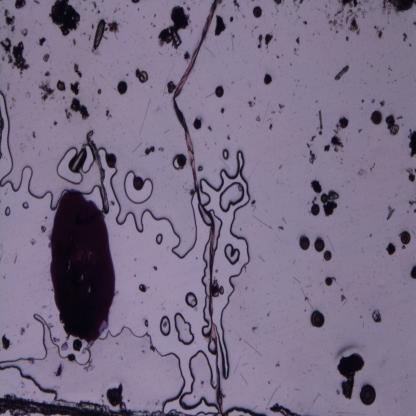Air bubble: (0, 310, 186, 411), (202, 146, 254, 328), (0, 90, 60, 214), (148, 191, 198, 258), (110, 169, 148, 234), (182, 351, 216, 410), (124, 171, 154, 204), (56, 147, 82, 185), (223, 398, 269, 416), (218, 183, 245, 213), (174, 311, 196, 345), (224, 242, 240, 265), (158, 316, 173, 336), (185, 292, 198, 310), (4, 205, 12, 217), (222, 150, 230, 162), (156, 233, 163, 245), (22, 202, 30, 210)
Background material: (153, 6, 193, 50), (335, 350, 365, 397), (327, 0, 362, 36), (306, 108, 326, 166), (0, 39, 33, 73), (51, 0, 81, 36), (322, 117, 349, 154), (380, 0, 416, 17), (323, 188, 342, 219), (68, 98, 90, 122), (91, 18, 106, 50), (2, 8, 17, 34), (270, 402, 297, 416), (370, 18, 386, 40), (385, 115, 400, 136), (254, 33, 272, 50), (212, 278, 226, 299), (395, 23, 409, 42), (215, 14, 226, 38), (41, 83, 54, 102), (310, 177, 323, 196), (107, 19, 121, 36), (333, 67, 349, 81), (371, 307, 383, 325), (69, 80, 80, 99), (409, 130, 416, 159), (404, 166, 416, 182), (0, 334, 12, 349), (54, 362, 65, 378), (252, 107, 262, 124), (165, 80, 178, 93), (386, 242, 397, 257), (386, 206, 396, 221), (74, 62, 82, 80), (145, 145, 156, 157), (217, 104, 228, 115), (38, 35, 48, 47), (138, 282, 148, 294), (274, 222, 284, 234), (60, 339, 69, 352), (21, 27, 29, 41), (278, 101, 286, 115), (19, 324, 28, 336), (15, 1, 27, 10), (57, 81, 66, 92), (233, 0, 241, 12), (104, 110, 113, 120), (410, 266, 416, 280), (141, 318, 150, 327), (247, 99, 255, 109), (295, 34, 301, 47), (43, 54, 50, 65), (300, 18, 308, 27), (151, 262, 158, 272), (342, 294, 348, 304), (407, 200, 416, 206), (30, 238, 36, 246), (129, 0, 140, 4), (44, 70, 51, 76), (209, 126, 214, 134), (274, 0, 278, 7)
Cellulose filter fibre: (85, 129, 111, 215)
Cotton: (174, 1, 226, 412)
Diatom: (358, 382, 377, 406), (108, 386, 124, 406), (300, 234, 312, 252), (369, 110, 383, 125), (399, 228, 411, 245), (116, 80, 128, 96), (252, 5, 264, 20), (314, 237, 325, 253), (314, 312, 325, 327), (133, 177, 144, 191), (176, 153, 186, 167), (106, 152, 116, 166), (310, 203, 320, 217), (138, 69, 148, 83), (263, 73, 273, 85), (323, 250, 333, 262), (324, 276, 334, 288), (193, 118, 203, 130), (214, 86, 224, 97), (320, 192, 329, 204), (74, 341, 82, 352)
Edge of slide: (0, 394, 152, 415)
Pen: (46, 188, 114, 338)
